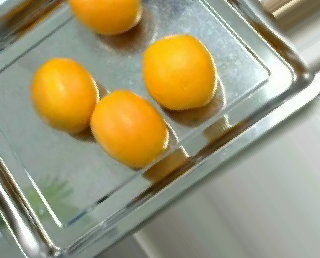Orange: (88, 89, 169, 170), (142, 33, 218, 111), (30, 56, 99, 134)
